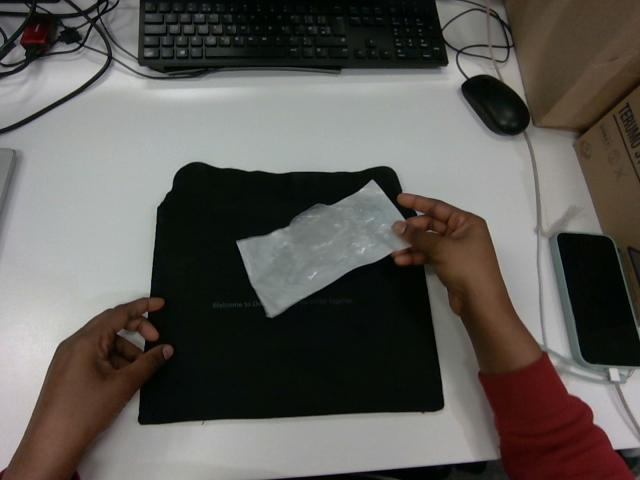gallipot: (237, 180, 408, 317)
